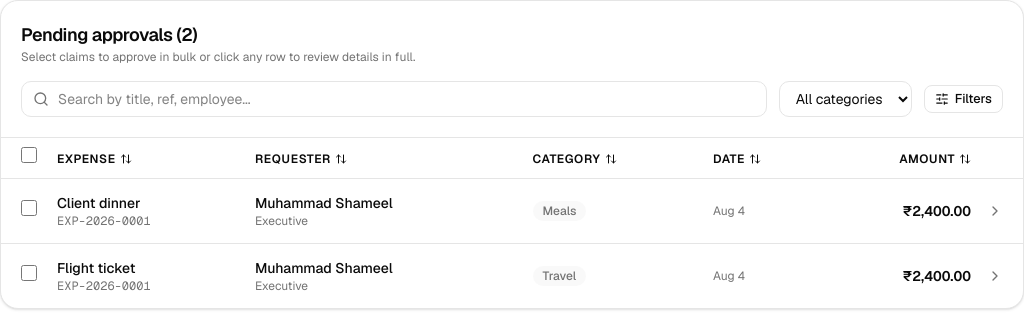
Test case: ApprovalsInboxTable › filters claims by category
Select "Meals" in the dropdown named "Filter by category" at [845, 99], box [779,81,912,117]
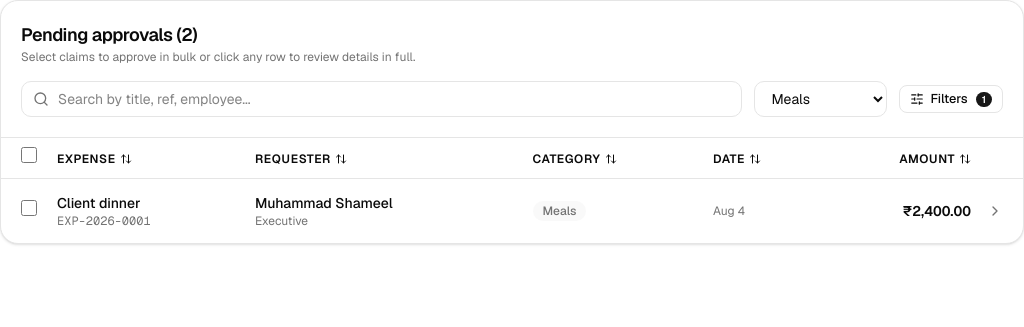
Expected: the text "Client dinner" is shown, [57,194,140,212]
Expected: the text "Flight ticket" is gone
